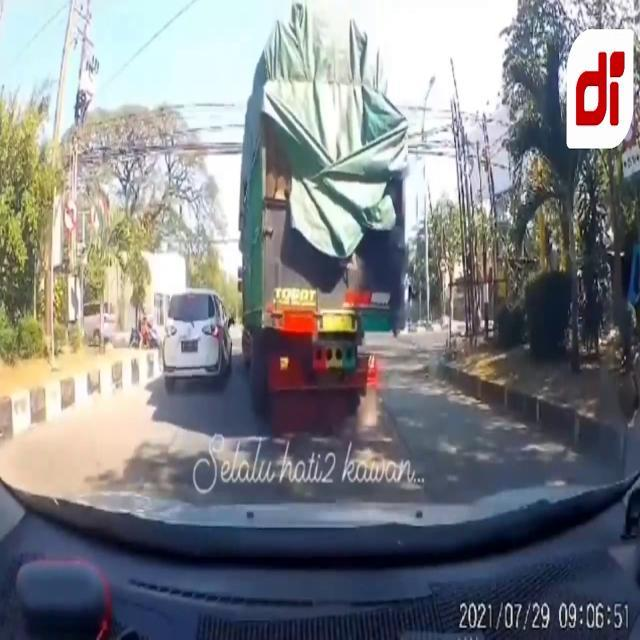normal: (216, 7, 461, 465), (149, 262, 243, 402)
